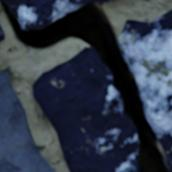brick: (0, 71, 54, 171), (2, 0, 114, 29), (0, 25, 4, 41)
broken_brick: (33, 47, 138, 171), (119, 10, 171, 171)
crack: (0, 0, 170, 171)
